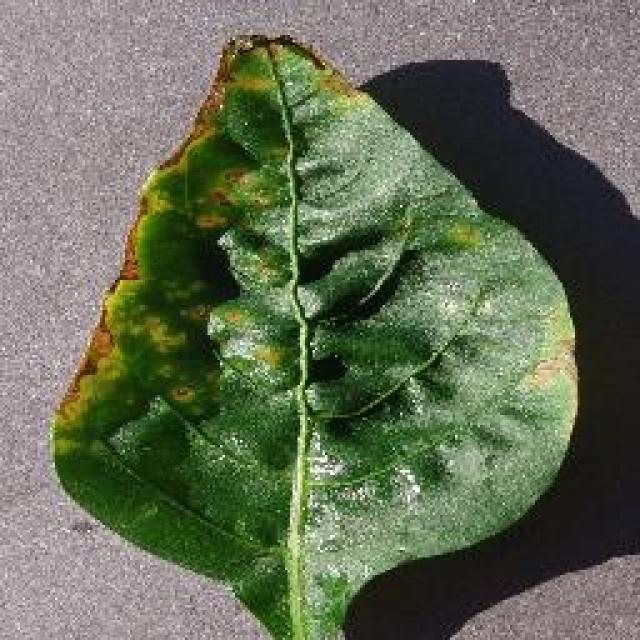Chilli_Bacterial_Spot: (48, 30, 582, 638), (155, 355, 223, 423), (135, 310, 190, 360), (160, 375, 208, 417), (305, 348, 350, 388), (523, 352, 565, 392), (437, 218, 485, 252), (247, 340, 285, 372), (165, 380, 193, 405)
